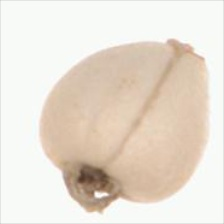L3: (156, 37, 206, 66)
L4: (39, 38, 209, 203)
